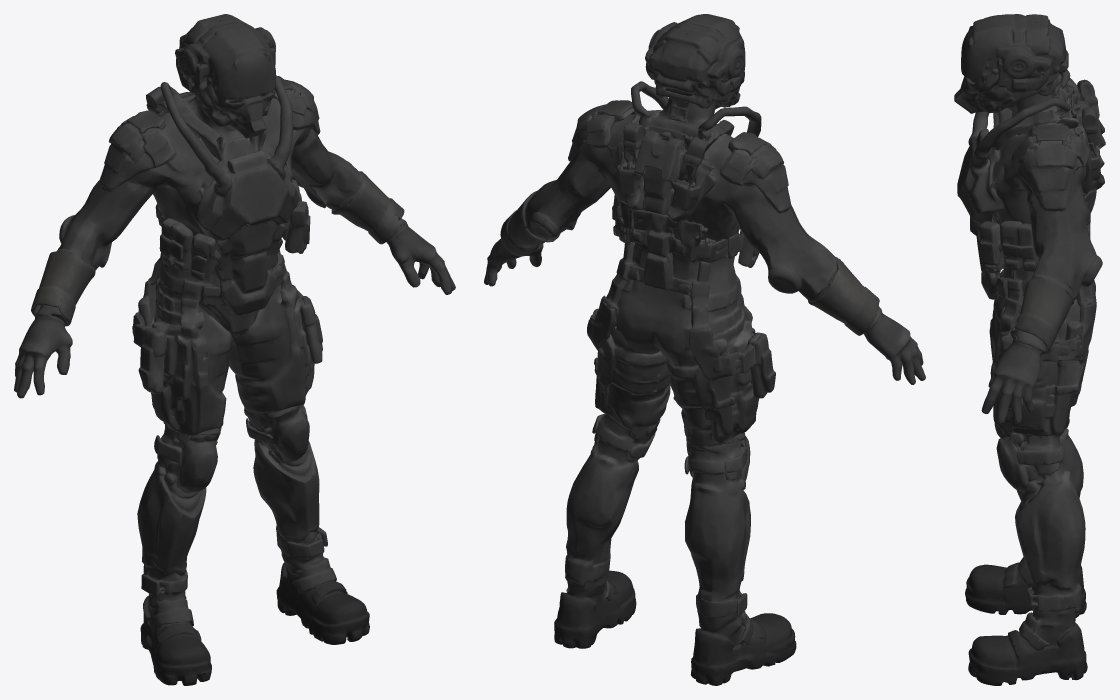
Rendered from wraith-trellis2-11.glb.
The picture shows the model from 3 angles, left to right: view 1: azimuth 30°, elevation 25°; view 2: azimuth 150°, elevation 25°; view 3: azimuth 270°, elevation 25°; orthographic projection. The views are drawn at different scales.
Parts seen in each view (by area): view 1: world; view 2: world; view 3: world.
Part boxes in pixels (x1=…): world: x1=14, y1=14, x2=455, y2=685; world: x1=484, y1=14, x2=925, y2=685; world: x1=954, y1=14, x2=1105, y2=685.
Bounding box in the file's own units: 0.7255 × 0.9952 × 0.2236.
1 material, 1 textured.
